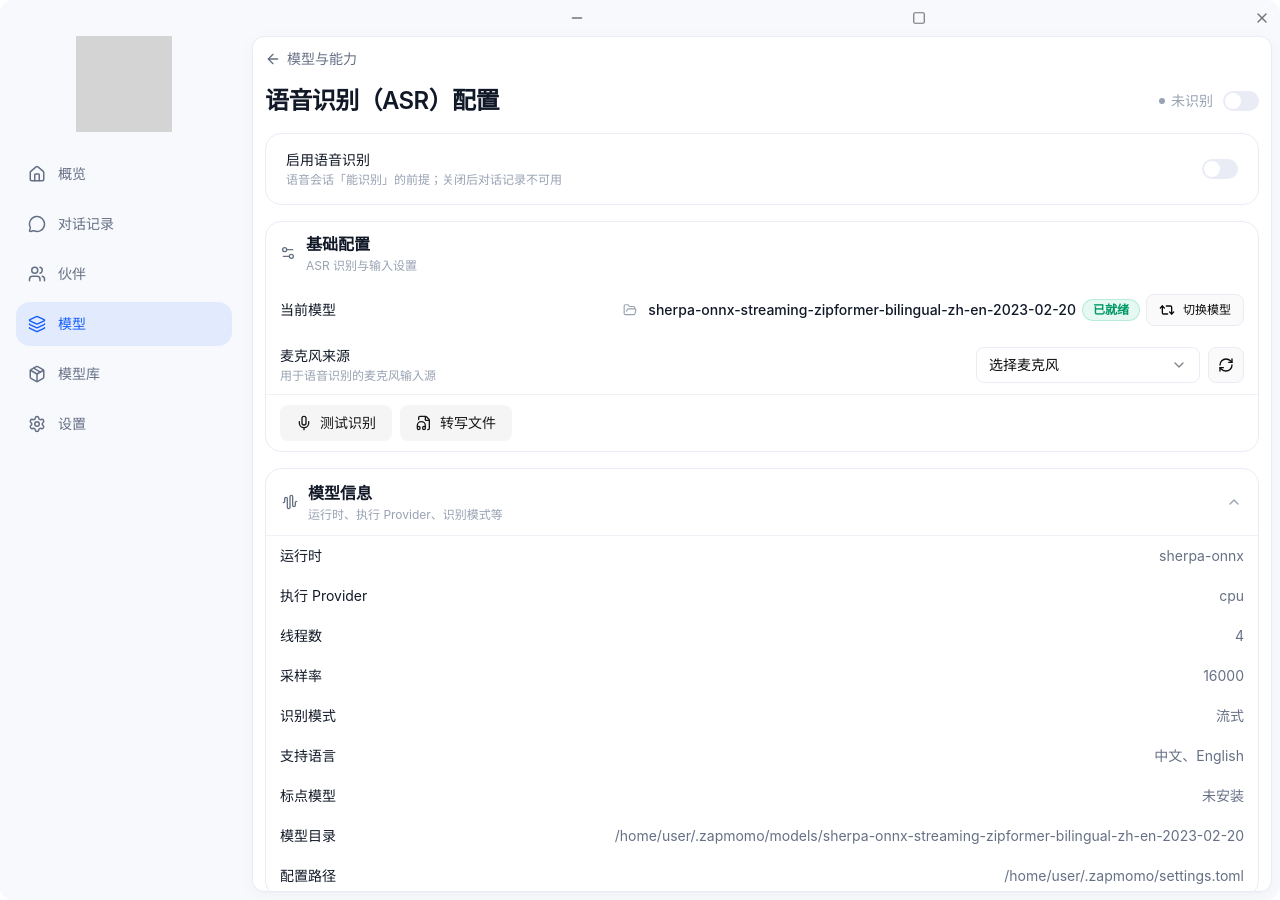
Test: AsrPage（语音识别配置） › asr-result 部分结果显示为临时文本，最终结果显示为段
Click the button "测试识别" at (336, 423), box [280,405,392,441]
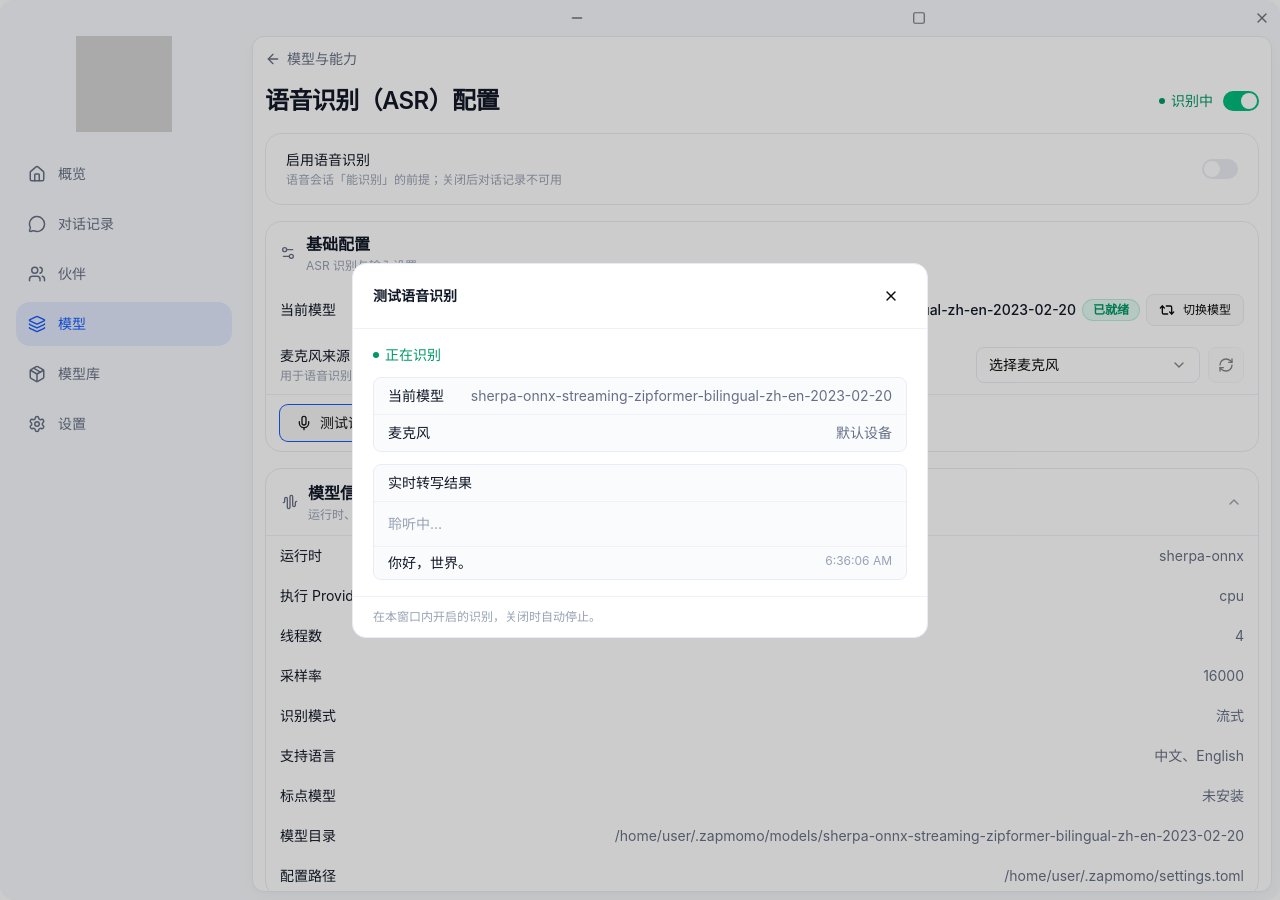
Now the text "你好" is shown, box [388,514,442,532]
Now the text "你好，世界。" is shown, box [388,554,472,570]
